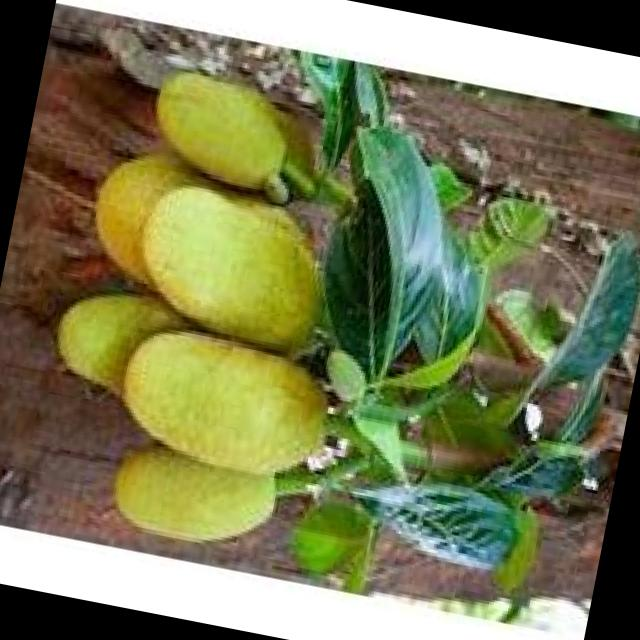Fruit: (37, 105, 384, 393), (26, 258, 367, 516)
